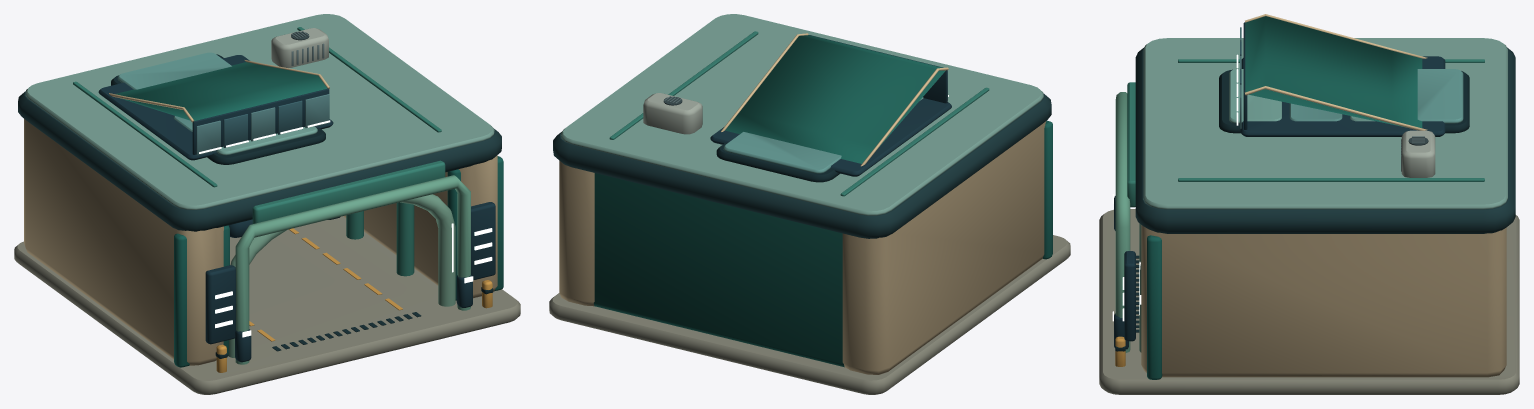
The model's file is wash.glb.
3 views of the same model, side by side, from view 1: azimuth 30°, elevation 25°; view 2: azimuth 150°, elevation 25°; view 3: azimuth 270°, elevation 25° (orthographic). The views are drawn at different scales.
Parts seen in each view (by area): view 1: Wash; view 2: Wash; view 3: Wash.
Boxes of the visible parts, box(x1,y1,x2,y2) form: Wash: box(14, 14, 520, 394); Wash: box(549, 14, 1070, 394); Wash: box(1099, 14, 1519, 394).
Size of the model in its own units: 6.44 by 4.11 by 6.51.
